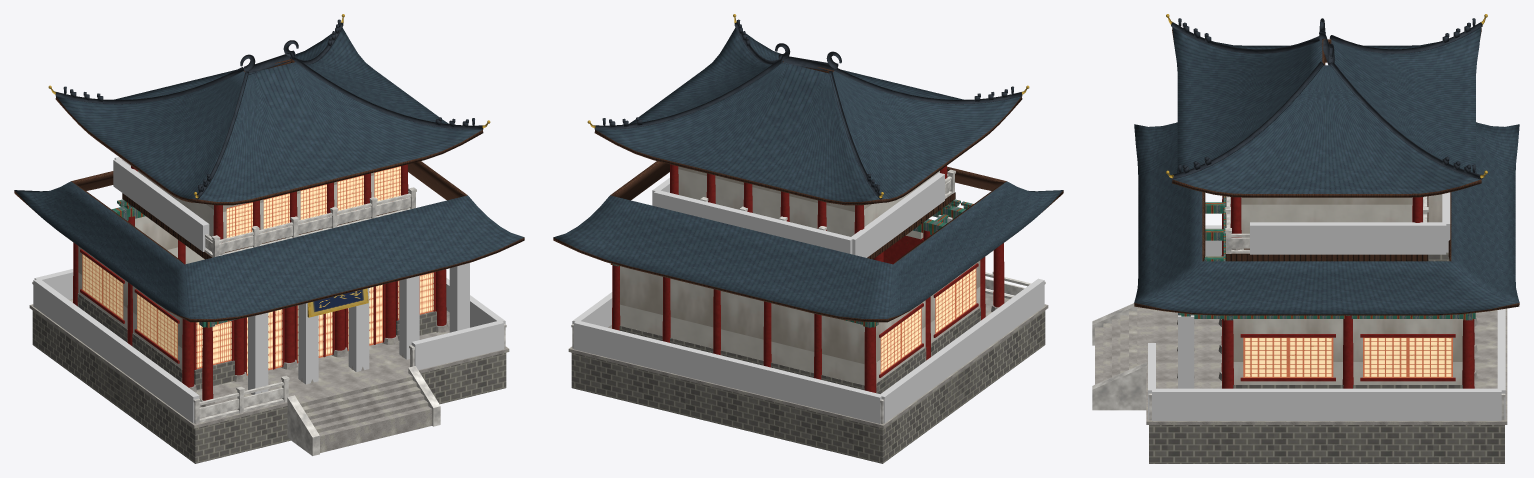
File: contribution_pavilion.glb
The picture shows the model from 3 angles, left to right: view 1: azimuth 30°, elevation 25°; view 2: azimuth 150°, elevation 25°; view 3: azimuth 270°, elevation 25°; orthographic projection. The views are drawn at different scales.
Visible parts, largest first — view 1: ContributionRoof, ContributionLowSkirt, ContributionPodiumBase, ContributionLattice, ContributionStairsfront, ContributionPodiumCap, ContributionColumns, ContributionRail-convcolonly.004, ContributionUpperLattice, ContributionBalconyBalustrade, ContributionRoofRidges, ContributionBalconyRail-convcolonly.003 (+19 smaller); view 2: ContributionRoof, ContributionLowSkirt, ContributionPodiumBase, ContributionWalls, ContributionRail-convcolonly.003, ContributionRail-convcolonly.004, ContributionColumns, ContributionUpperWalls, ContributionBalconyRail-convcolonly.002, ContributionRoofRidges, ContributionLattice, ContributionBalconyRail-convcolonly.003 (+9 smaller); view 3: ContributionRoof, ContributionLowSkirt, ContributionPodiumBase, ContributionRail-convcolonly.002, ContributionPodiumCap, ContributionLattice, ContributionBalconyRail-convcolonly.001, ContributionWalls, ContributionUpperWalls, ContributionRoofRidges, ContributionStairsfront, ContributionColumns (+11 smaller).
Part boxes in pixels (<box>): ContributionRoof: <box>55,27,483,205</box>; ContributionLowSkirt: <box>14,161,524,322</box>; ContributionPodiumBase: <box>32,310,506,463</box>; ContributionLattice: <box>82,254,433,375</box>; ContributionStairsfront: <box>298,373,432,452</box>; ContributionPodiumCap: <box>29,299,509,428</box>; ContributionColumns: <box>73,216,446,400</box>; ContributionRail-convcolonly.004: <box>33,279,199,423</box>; ContributionUpperLattice: <box>226,166,400,237</box>; ContributionBalconyBalustrade: <box>204,187,416,257</box>; ContributionRoofRidges: <box>55,22,483,199</box>; ContributionBalconyRail-convcolonly.003: <box>113,159,209,251</box>; ContributionRoof: <box>594,27,1022,205</box>; ContributionLowSkirt: <box>553,161,1063,322</box>; ContributionPodiumBase: <box>571,310,1045,463</box>; ContributionWalls: <box>620,230,980,385</box>; ContributionRail-convcolonly.003: <box>573,320,882,423</box>; ContributionRail-convcolonly.004: <box>880,278,1044,423</box>; ContributionColumns: <box>612,230,1004,392</box>; ContributionUpperWalls: <box>678,166,939,236</box>; ContributionBalconyRail-convcolonly.002: <box>653,190,853,254</box>; ContributionRoofRidges: <box>594,22,1022,199</box>; ContributionLattice: <box>880,268,976,373</box>; ContributionBalconyRail-convcolonly.003: <box>850,173,944,257</box>; ContributionRoof: <box>1172,27,1481,197</box>; ContributionLowSkirt: <box>1134,122,1519,315</box>; ContributionPodiumBase: <box>1149,425,1504,463</box>; ContributionRail-convcolonly.002: <box>1152,388,1501,420</box>; ContributionPodiumCap: <box>1146,308,1507,424</box>; ContributionLattice: <box>1243,337,1452,377</box>; ContributionBalconyRail-convcolonly.001: <box>1250,222,1446,254</box>; ContributionWalls: <box>1233,194,1462,384</box>; ContributionUpperWalls: <box>1241,197,1412,237</box>; ContributionRoofRidges: <box>1171,18,1482,179</box>; ContributionStairsfront: <box>1095,307,1146,384</box>; ContributionColumns: <box>1221,196,1474,388</box>.
Size of what is drawn, in the model's own units: 15.91 by 14.5 by 16.09.
13 materials, 13 textured.
